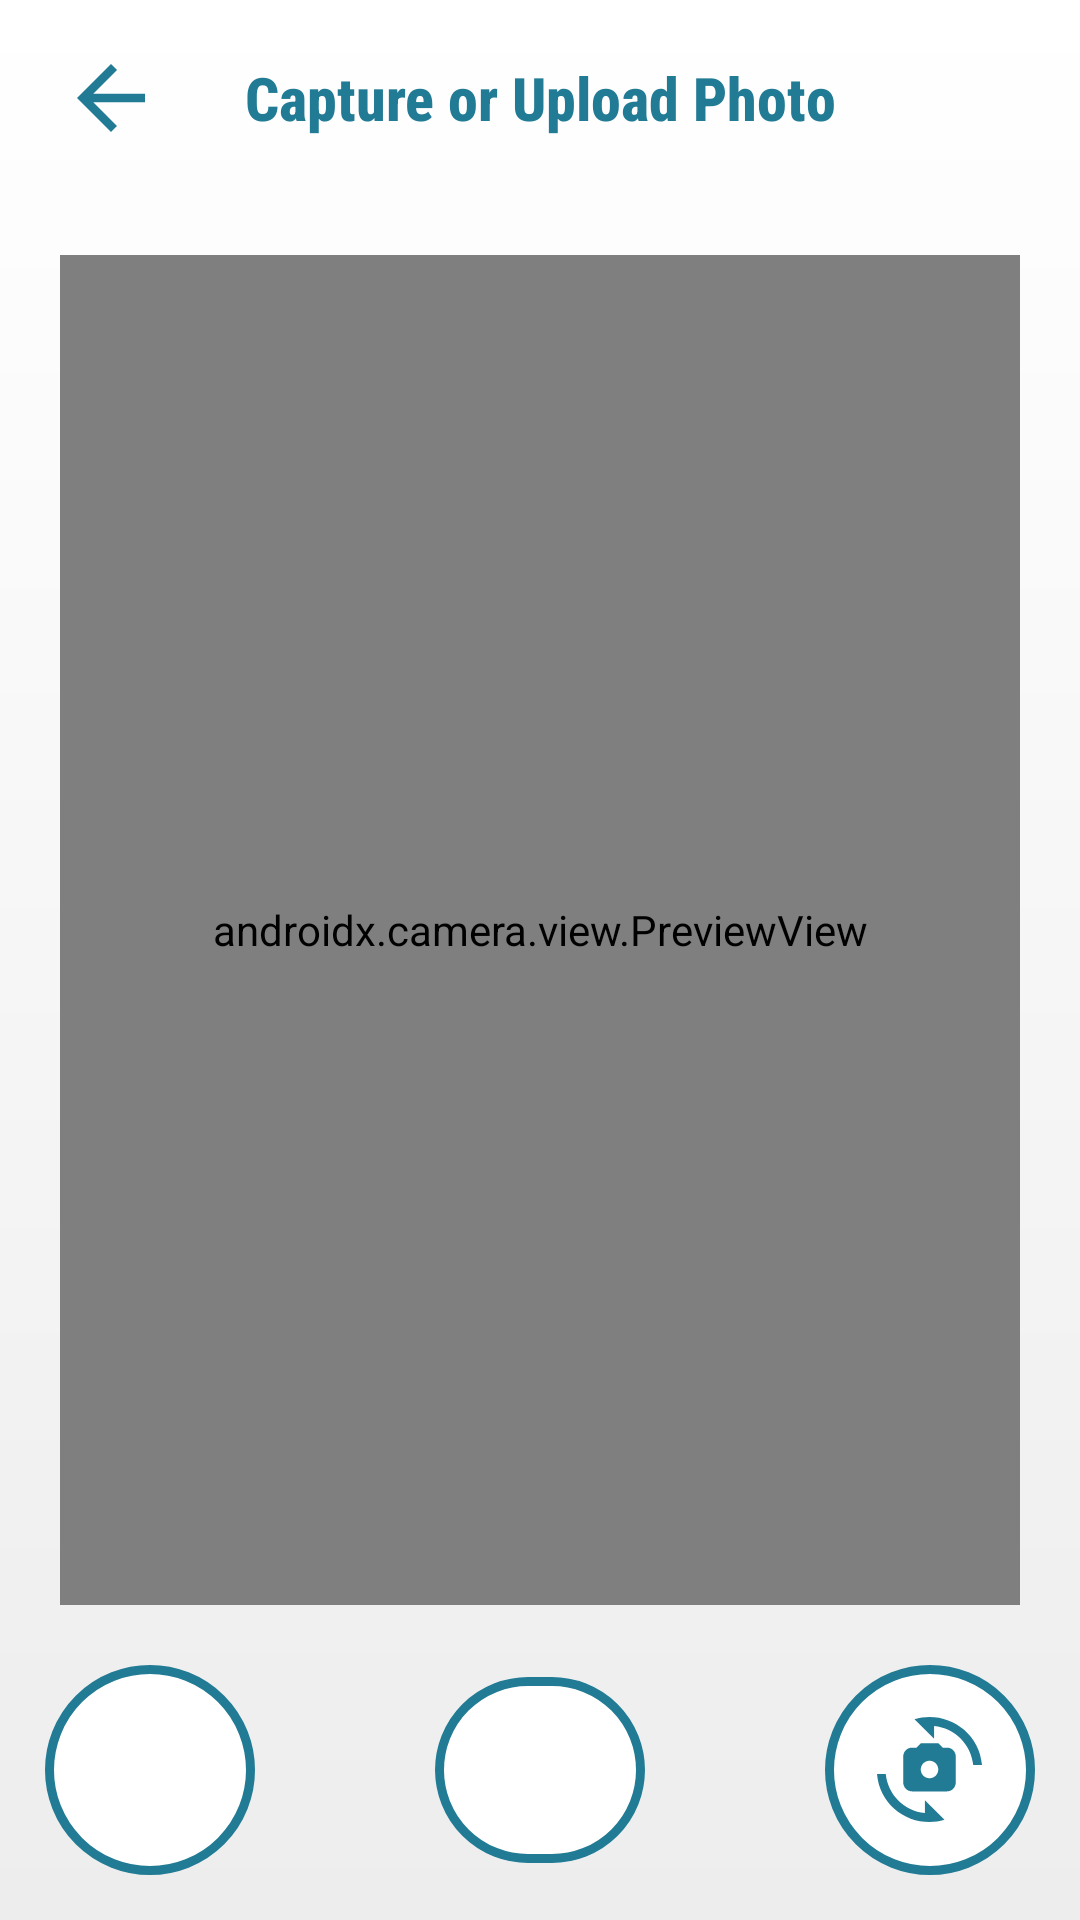

Icon click points for this 1080 x 1920 phone screenshot, format point (x, y):
back: point (111, 98)
cameraswitch: point (929, 1769)
